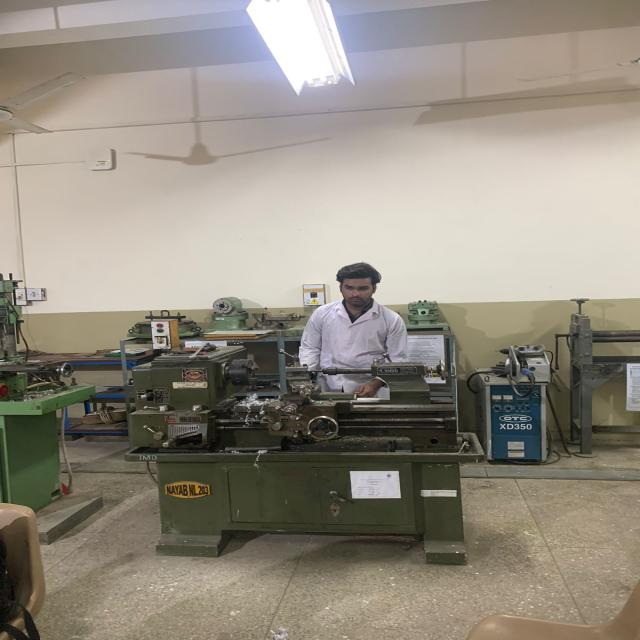labcoat: (298, 297, 409, 415)
